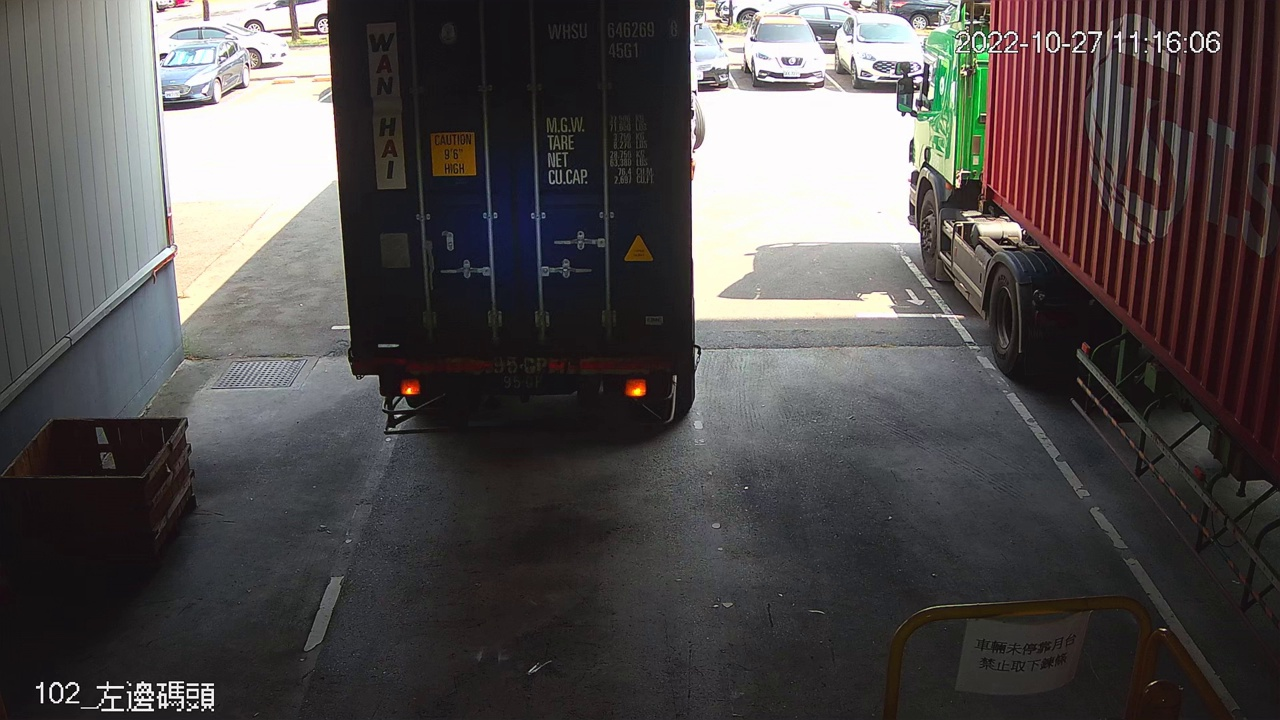container: (543, 16, 685, 64)
